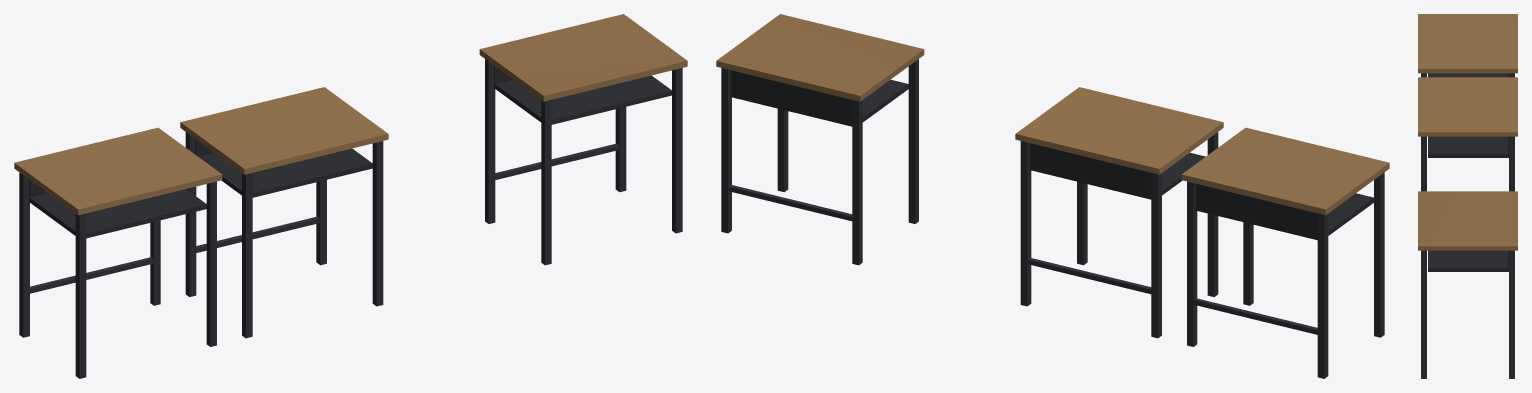
The model's file is table.school_desks_three_left.empty.glb.
3 views of the same model, side by side, from view 1: azimuth 30°, elevation 25°; view 2: azimuth 150°, elevation 25°; view 3: azimuth 270°, elevation 25° (orthographic). The views are drawn at different scales.
Parts seen in each view (by area): view 1: table_school_desks_three_left_empty; view 2: table_school_desks_three_left_empty; view 3: table_school_desks_three_left_empty.
Part boxes in pixels (left/top/right/bottom): table_school_desks_three_left_empty: left=14, top=14, right=687, bottom=378; table_school_desks_three_left_empty: left=716, top=14, right=1389, bottom=378; table_school_desks_three_left_empty: left=1418, top=14, right=1517, bottom=378.
Size of what is drawn, in the model's own units: 2.75 by 0.74 by 0.5.
